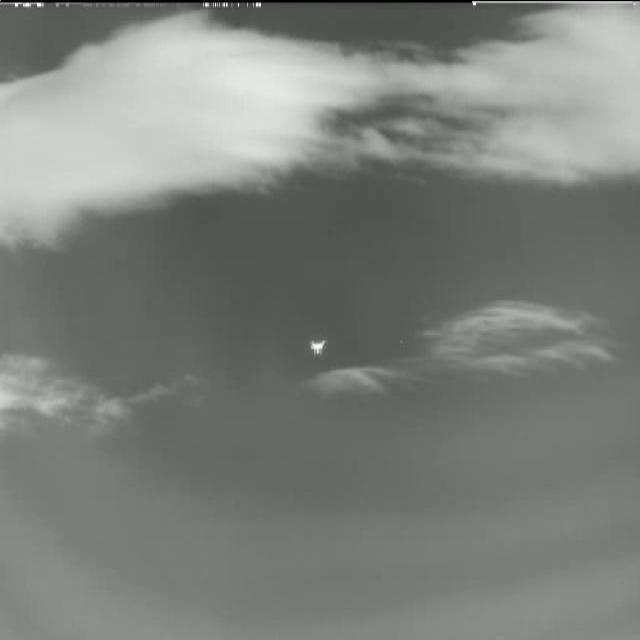drone: (306, 336, 330, 356)
